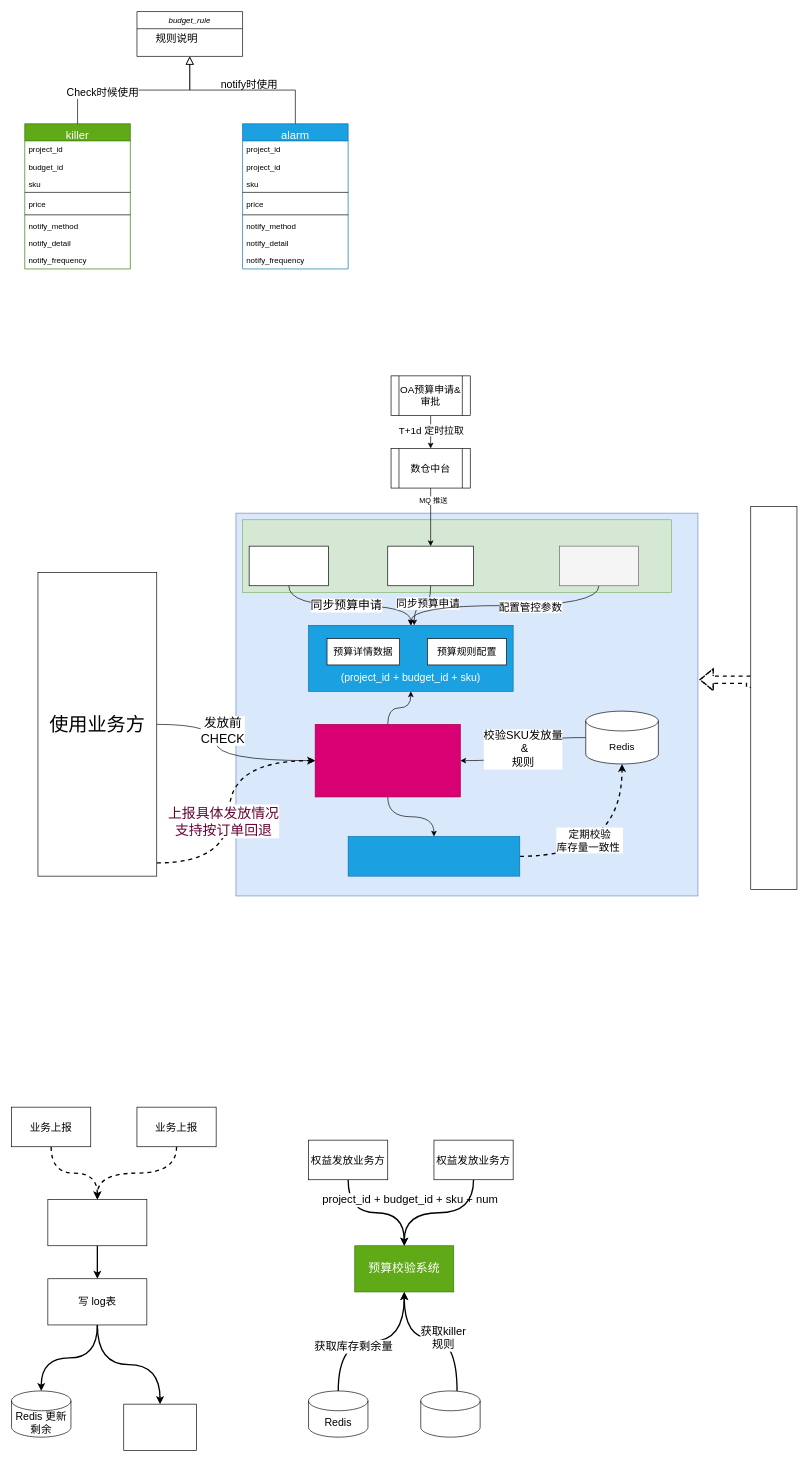
Image size: 809x1462. Some labels were removed from this diagram. Each missing label, with the centre of its shape:
"OA活动预算 （活动预算管理、 活动间借用）" goes at point (430, 565).
"TiDB" goes at point (450, 1413).
"发放log 【记账本】" goes at point (433, 856).
"奖励金出款管理" goes at point (288, 565).
"常规功能配置平台" goes at point (599, 565).
"接收消息 (consumer MQ)" goes at point (97, 1222).
"管 理 后 台" goes at point (773, 697).
"获取规则、执行规则" goes at point (159, 1426).
"预算控制" goes at point (387, 760).
